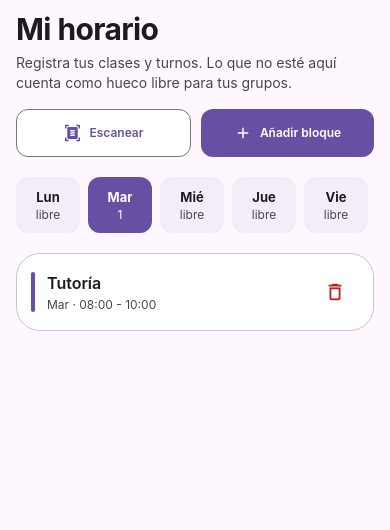
pide confirmación antes de borrar y solo borra al confirmar
Step 1. Click the button named "Eliminar Tutoría" → (335, 292), box [311,268,359,316]
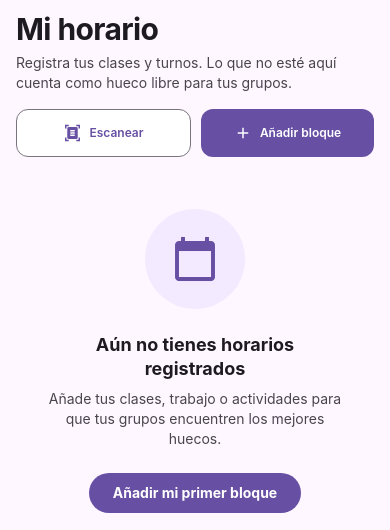
expect the text "Tutoría" is gone: met
